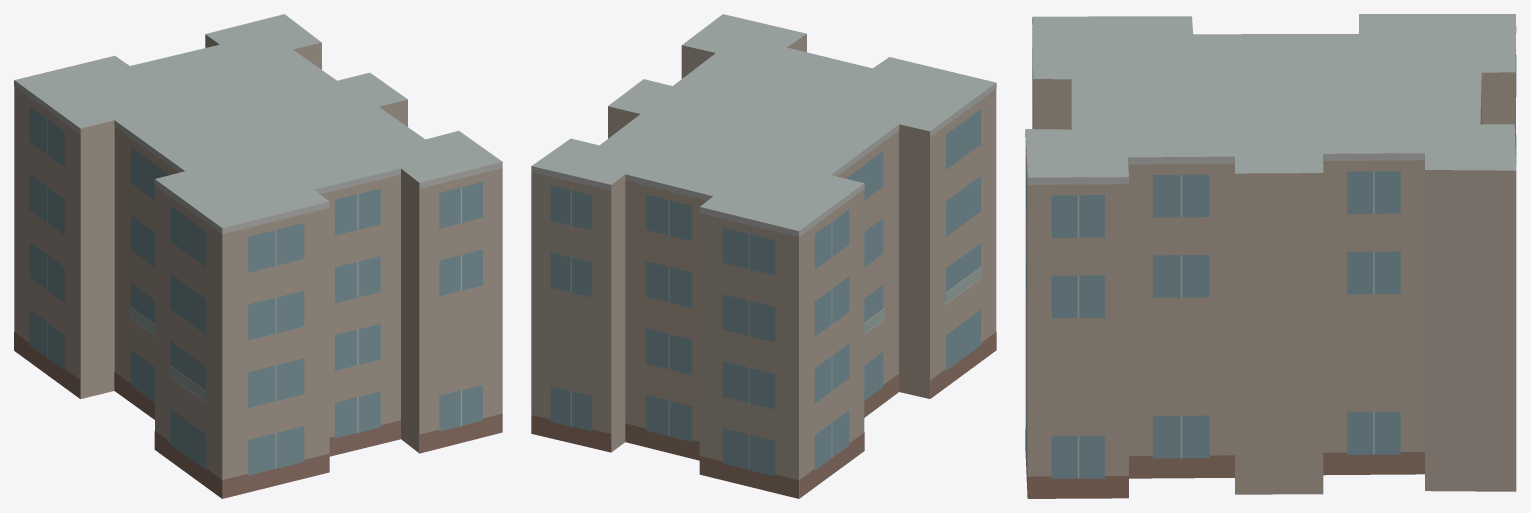
The model's file is survey-upis-32820440.glb.
3 renders of one model, left to right at view 1: azimuth 30°, elevation 25°; view 2: azimuth 150°, elevation 25°; view 3: azimuth 270°, elevation 25°, orthographic. The views are drawn at different scales.
Parts seen in each view (by area): view 1: survey-upis-32820440.tmp; view 2: survey-upis-32820440.tmp; view 3: survey-upis-32820440.tmp.
Boxes of the visible parts, x1=… form: survey-upis-32820440.tmp: x1=14, y1=14, x2=502, y2=498; survey-upis-32820440.tmp: x1=531, y1=14, x2=996, y2=498; survey-upis-32820440.tmp: x1=1025, y1=14, x2=1516, y2=498.
Bounding box in the file's own units: 11.82 × 10.8 × 14.97.
